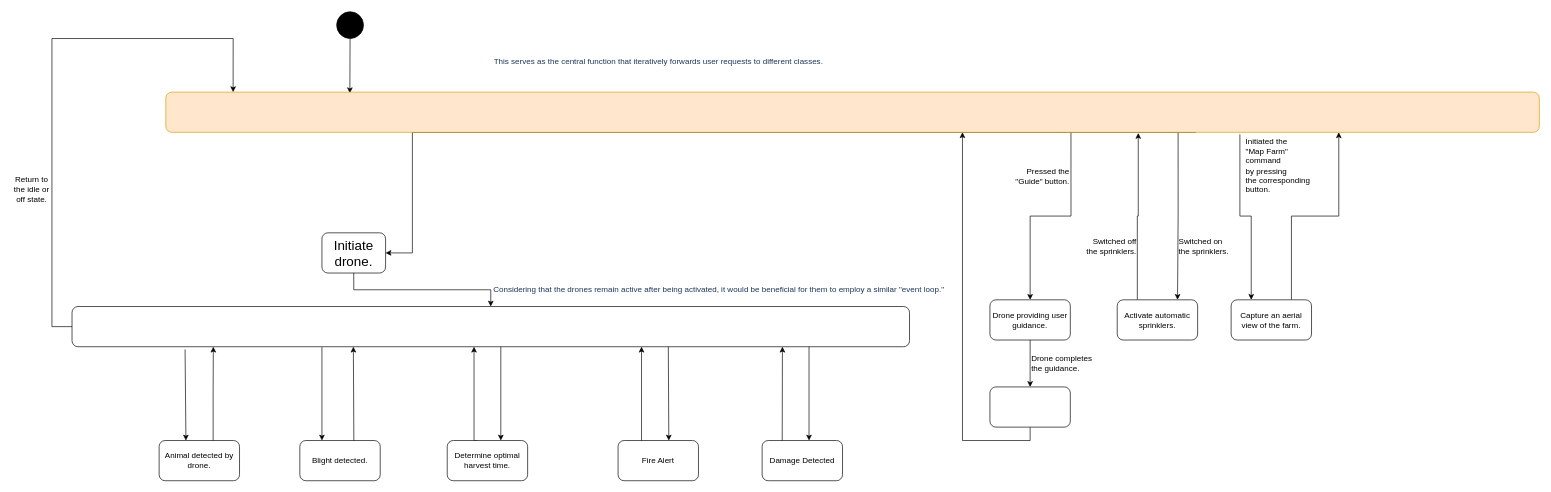
Image size: 1551x492. Some labels were removed from this diagram. Each missing label, with the centre of its shape:
"Drone heads back to base." belongs at (x=1029, y=406).
"Event Loop for Farming Assistant" belongs at (x=852, y=111).
"Perform terrain patrol." belongs at (x=490, y=326).
